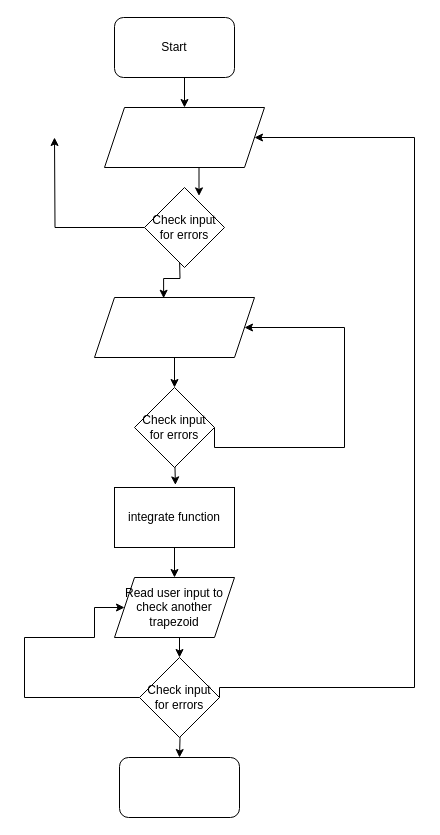
This 440x835 diagram has some shape labels left out. The shapes that lost their labels are listed below. From the top down, each one's centre as x and y in pixels, then its label:
At (184,137): "Read User Input for interval".
At (174,327): "Read User input for number of trapizoids".
At (179,787): "End".
